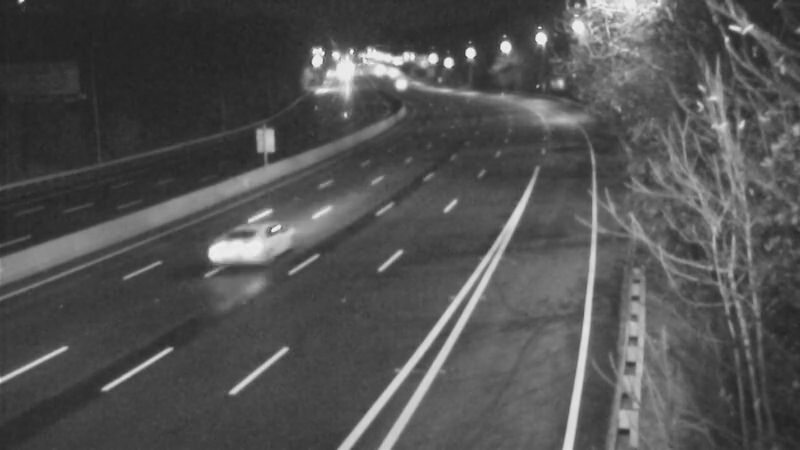vehicle: (208, 197, 288, 277), (373, 57, 423, 107)
